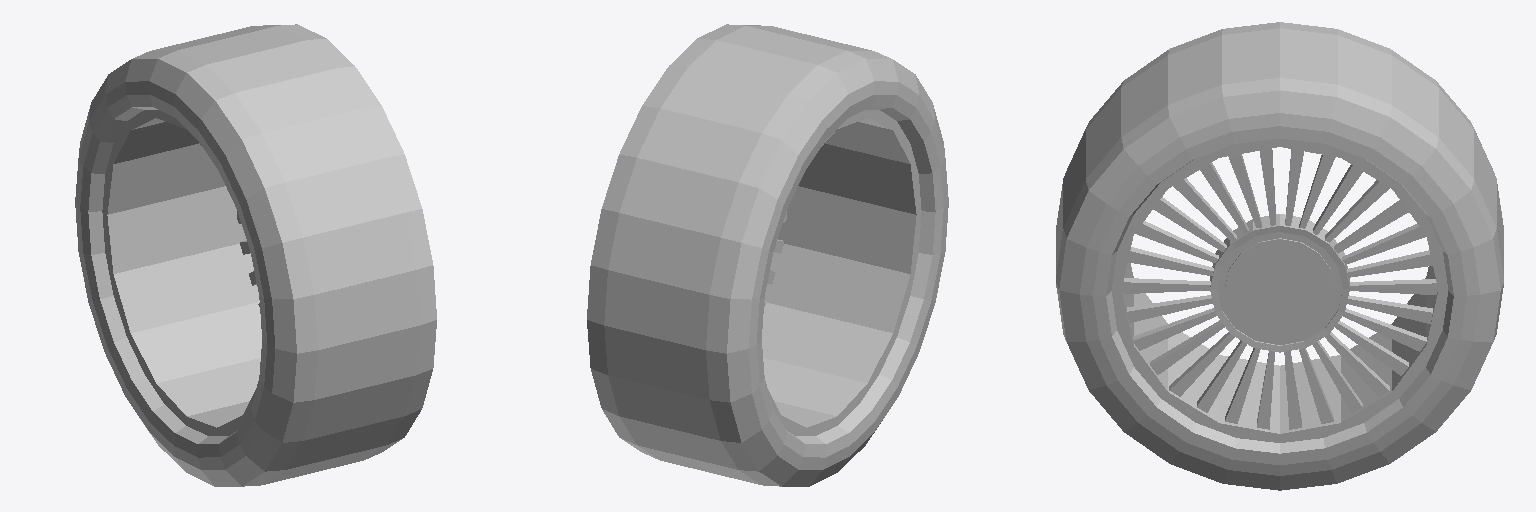
Rendered from gkwheelrear.obj.
The picture shows the model from 3 angles: view 1: azimuth 30°, elevation 25°; view 2: azimuth 150°, elevation 25°; view 3: azimuth 270°, elevation 25°; orthographic projection.
Visible parts, largest first — view 1: tire, rim; view 2: tire, rim; view 3: tire, rim.
Boxes of the visible parts, x1,y1,x2,y2 form: tire: [75, 24, 436, 486]; rim: [102, 110, 261, 435]; tire: [587, 24, 948, 486]; rim: [762, 110, 921, 435]; tire: [1056, 22, 1503, 490]; rim: [1112, 139, 1447, 442].
Size of the model in its own units: 0.5345 by 1.26 by 1.26.